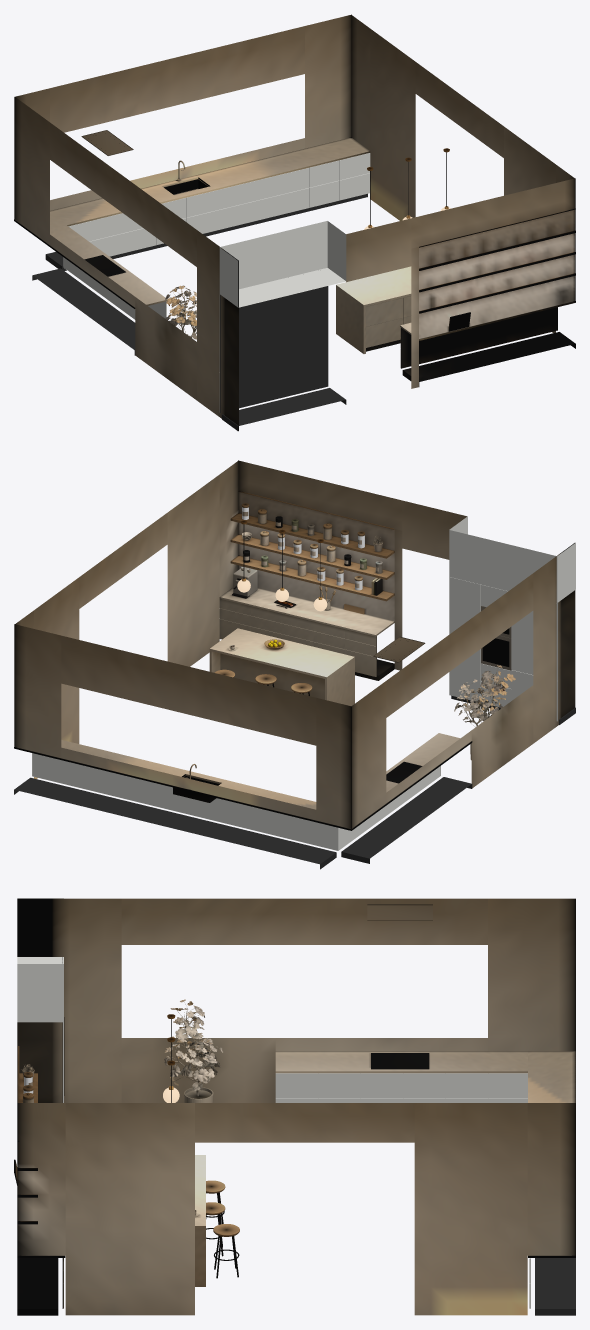
Rendered from kitchen.glb.
The picture shows the model from 3 angles, top to bottom: view 1: azimuth 30°, elevation 25°; view 2: azimuth 150°, elevation 25°; view 3: azimuth 270°, elevation 25°; orthographic projection. The views are drawn at different scales.
Visible parts, largest first — view 1: kitchen__ground__vtx, kitchen__ground__kit; view 2: kitchen__ground__vtx, kitchen__ground__kit, kitchen__ground__raw; view 3: kitchen__ground__vtx, kitchen__ground__kit.
Part boxes in pixels (left/top/right/bottom): kitchen__ground__vtx: left=14, top=14, right=575, bottom=430; kitchen__ground__kit: left=32, top=153, right=370, bottom=430; kitchen__ground__vtx: left=14, top=460, right=575, bottom=830; kitchen__ground__kit: left=14, top=516, right=575, bottom=869; kitchen__ground__raw: left=237, top=507, right=364, bottom=611; kitchen__ground__vtx: left=14, top=898, right=575, bottom=1315; kitchen__ground__kit: left=17, top=898, right=575, bottom=1315.
Bounding box in the file's own units: 6.68 × 3.2 × 7.67.
